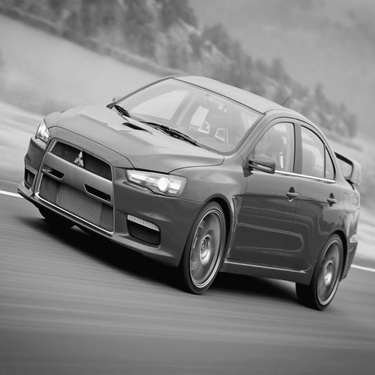car: (9, 65, 364, 310)
